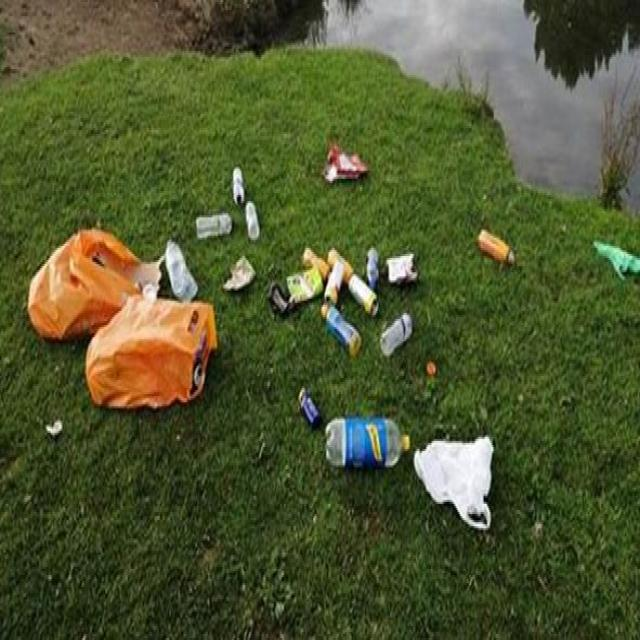plastic: (26, 224, 164, 342), (84, 291, 218, 412), (413, 431, 494, 534), (324, 409, 411, 474), (163, 230, 200, 302), (379, 310, 419, 359), (192, 212, 236, 240), (244, 198, 260, 242), (231, 162, 245, 208)
